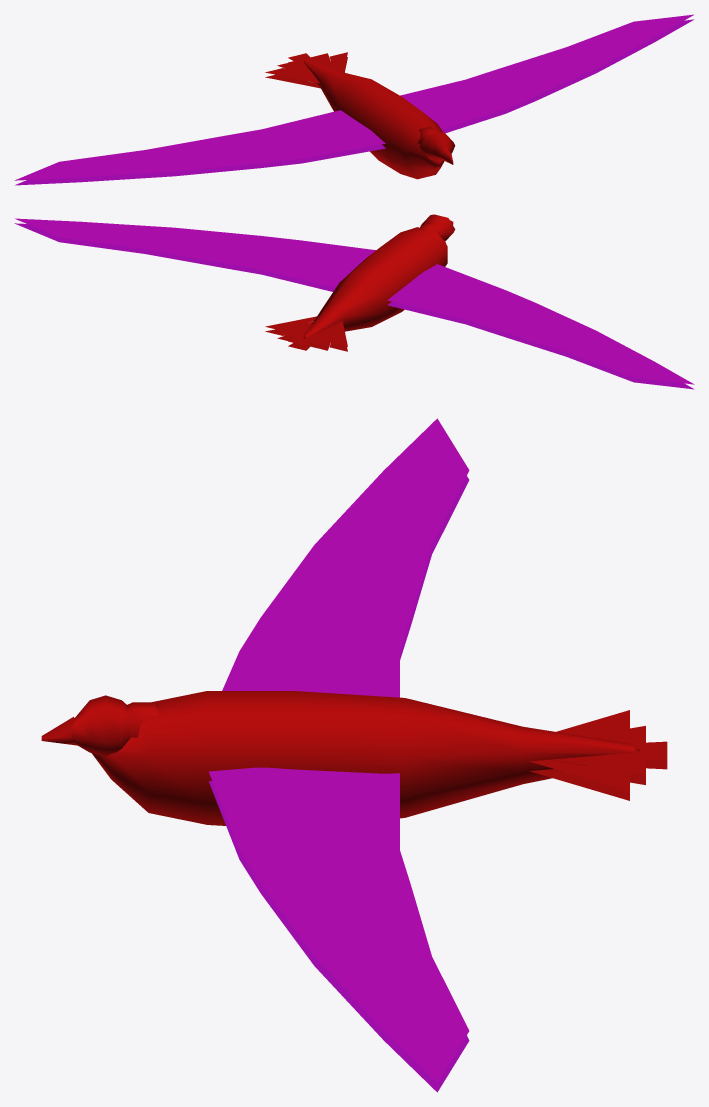
File: skua.glb
3 renders of one model, top to bottom at view 1: azimuth 30°, elevation 25°; view 2: azimuth 150°, elevation 25°; view 3: azimuth 270°, elevation 25°, orthographic. The views are drawn at different scales.
Visible parts, largest first — view 1: bird; view 2: bird; view 3: bird.
Boxes of the visible parts, box(x1,y1,x2,y2) form: bird: box(14, 14, 694, 185); bird: box(14, 214, 694, 389); bird: box(41, 418, 667, 1092).
Size of the model in its own units: 1.15 by 0.0938 by 0.457.
